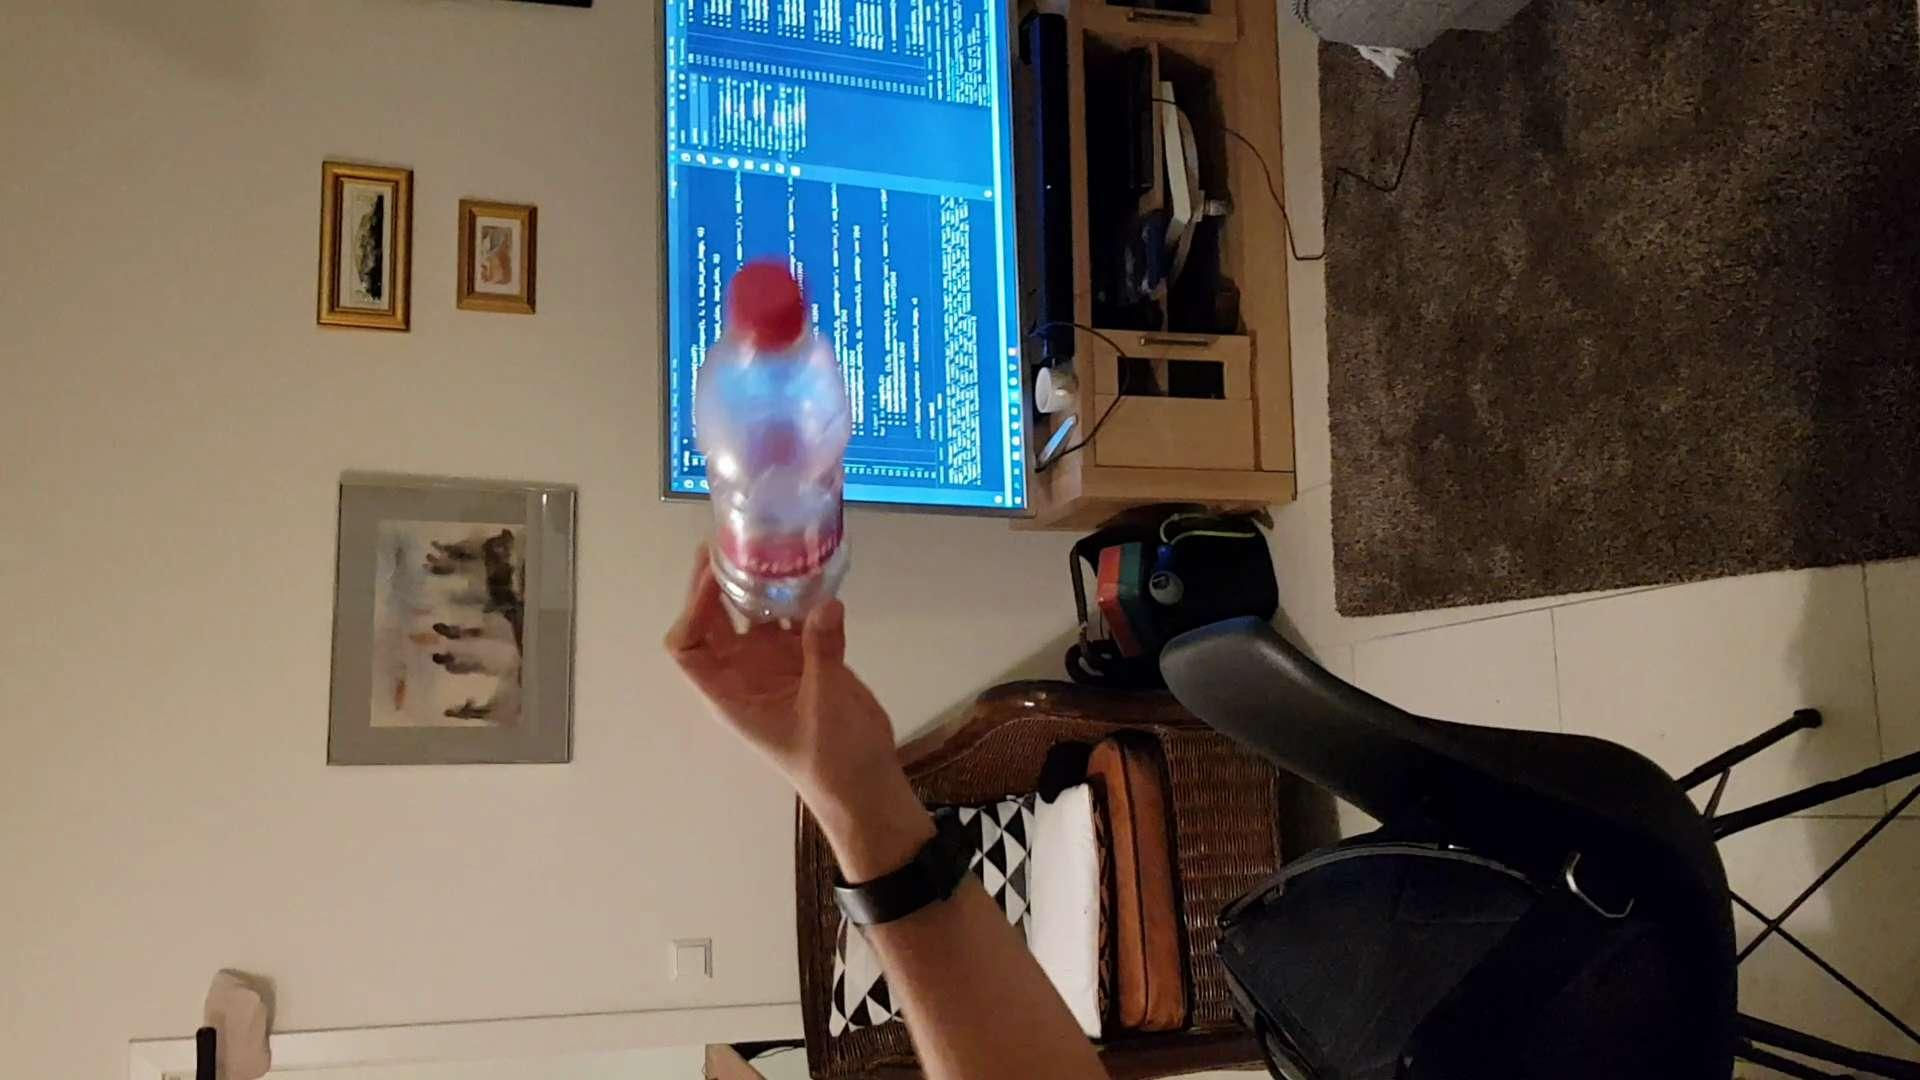Bottle: (694, 245, 865, 645)
